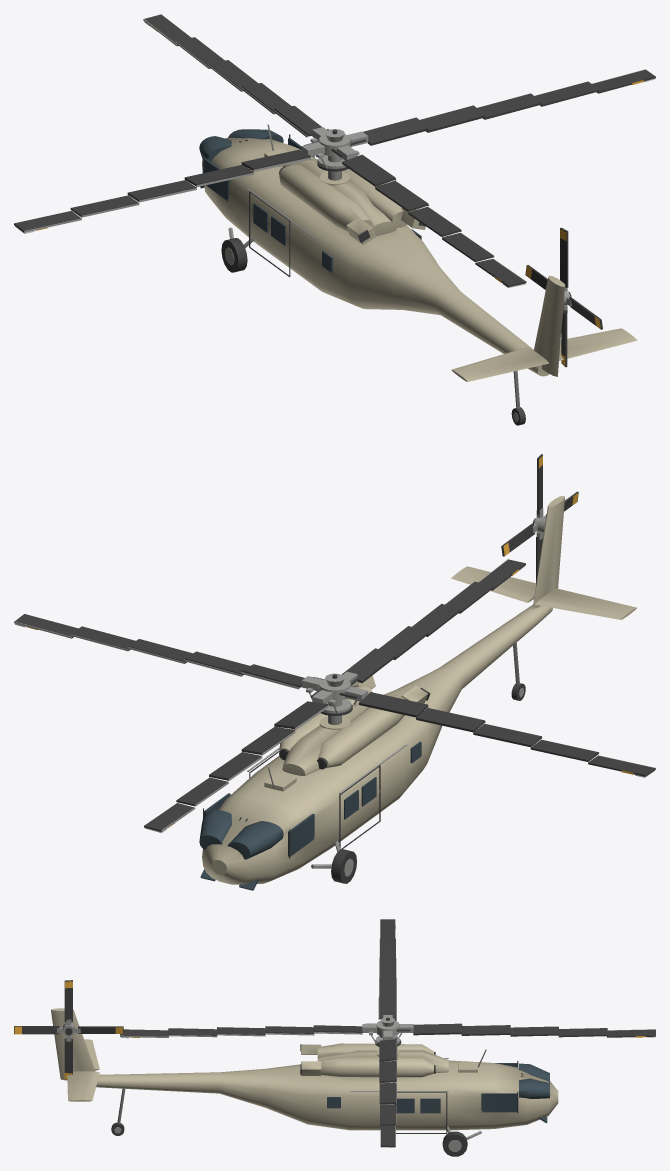
The model's file is transport_usa.glb.
3 views of the same model, one above another, from view 1: azimuth 30°, elevation 25°; view 2: azimuth 150°, elevation 25°; view 3: azimuth 270°, elevation 25° (orthographic). The views are drawn at different scales.
Parts seen in each view (by area): view 1: body, rotor, trotor; view 2: body, rotor, trotor; view 3: body, rotor, trotor.
Part boxes in pixels (x1=…): body: x1=199, y1=124, x2=637, y2=425; rotor: x1=14, y1=14, x2=655, y2=287; trotor: x1=525, y1=227, x2=602, y2=367; body: x1=199, y1=496, x2=636, y2=890; rotor: x1=14, y1=559, x2=655, y2=832; trotor: x1=501, y1=454, x2=578, y2=584; body: x1=51, y1=1008, x2=558, y2=1156; rotor: x1=120, y1=919, x2=655, y2=1147; trotor: x1=14, y1=980, x2=123, y2=1080.
Bounding box in the file's own units: 16.37 × 5.37 × 19.61.
